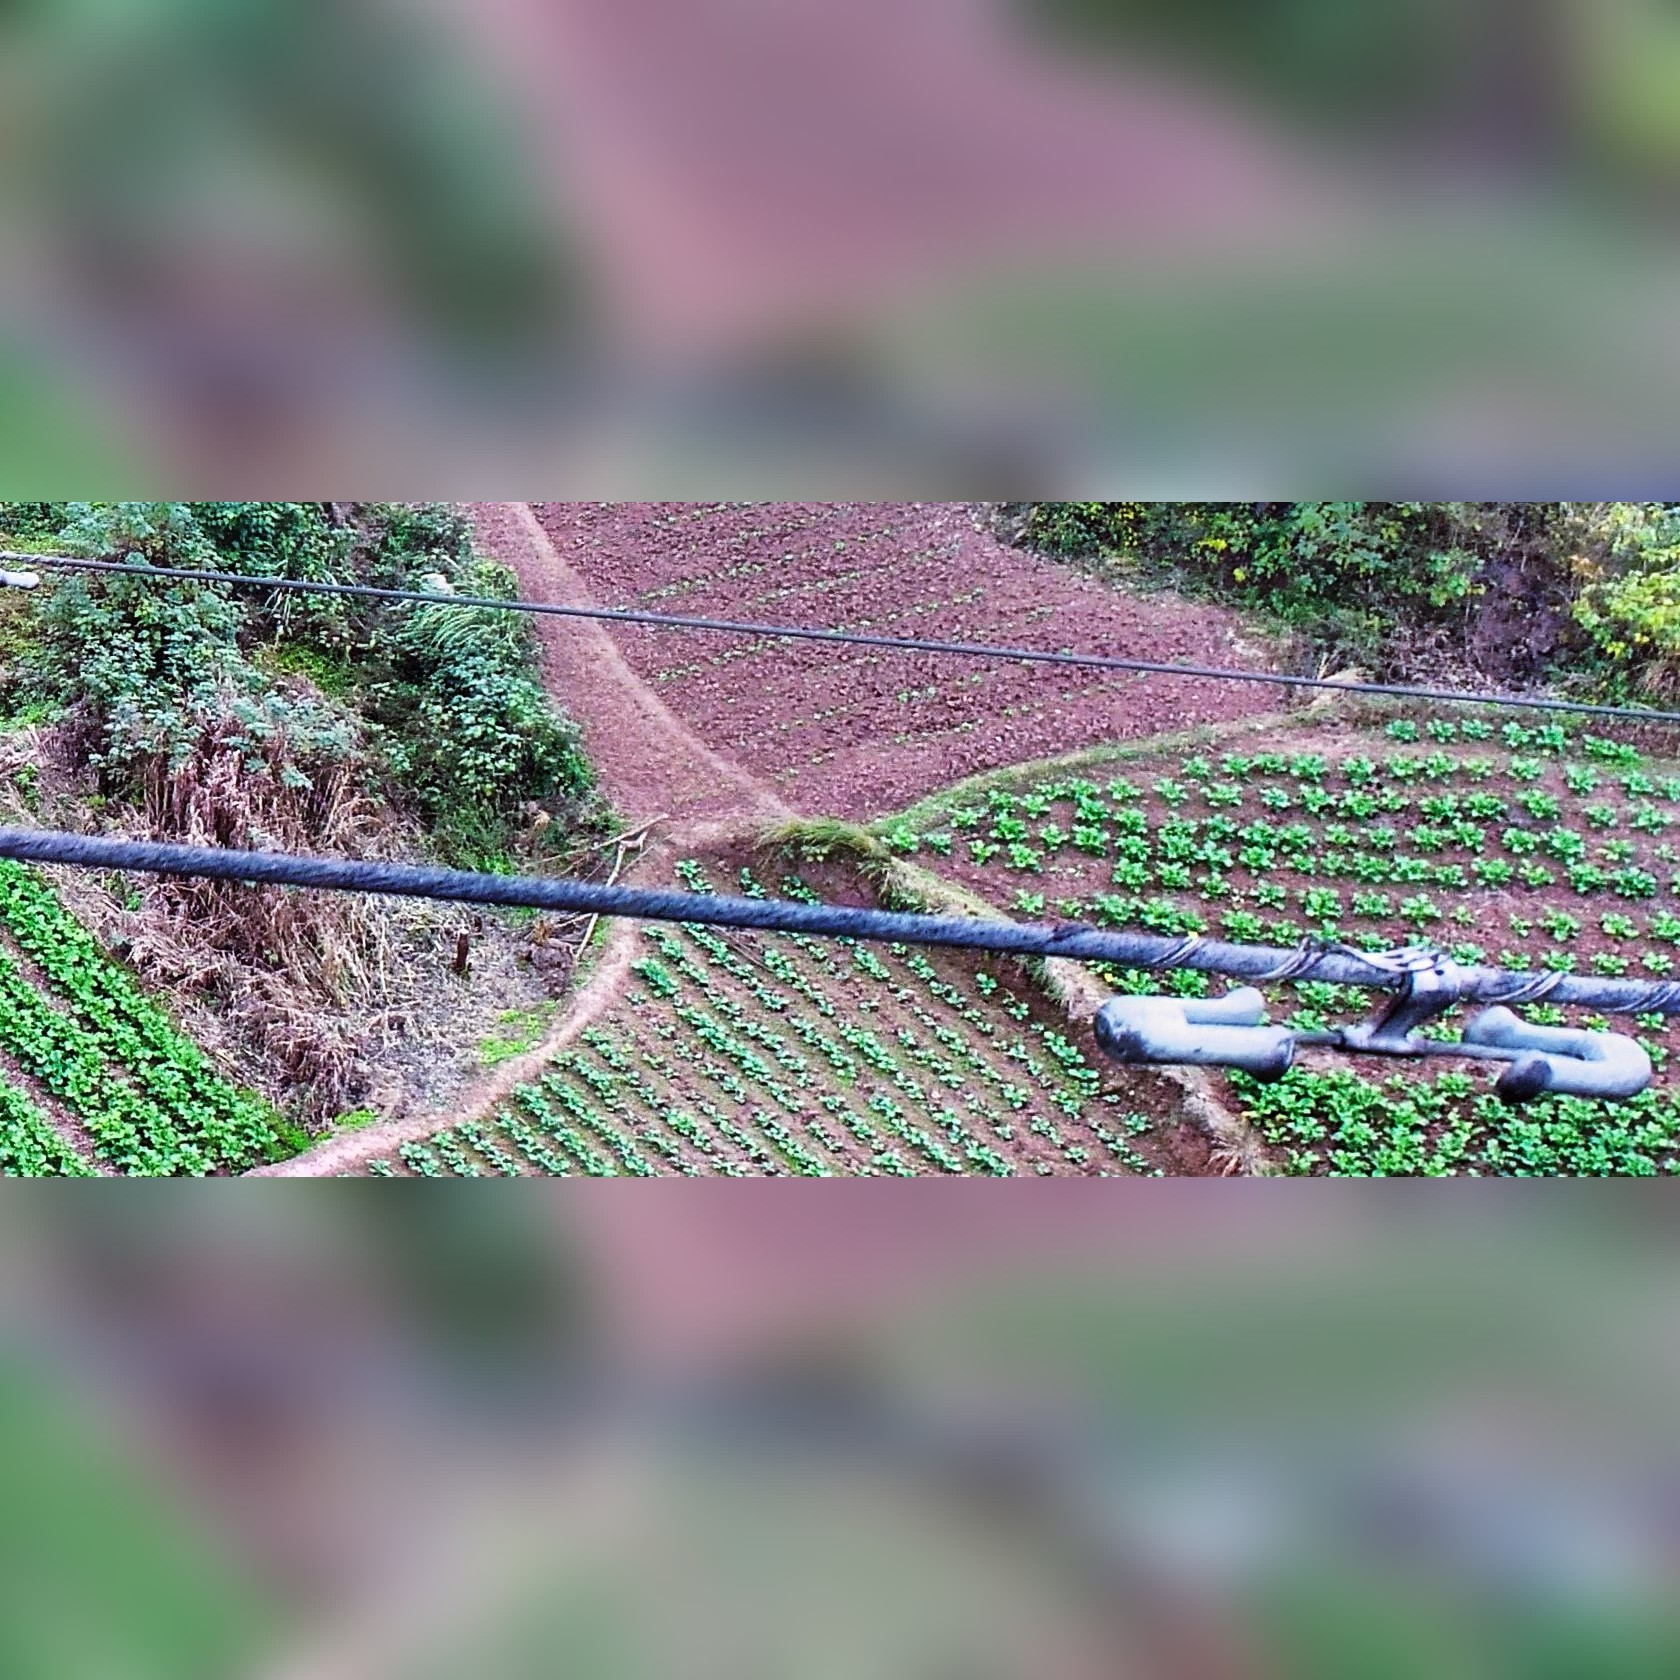Shockproof hammer: (1078, 920, 1678, 1125)
